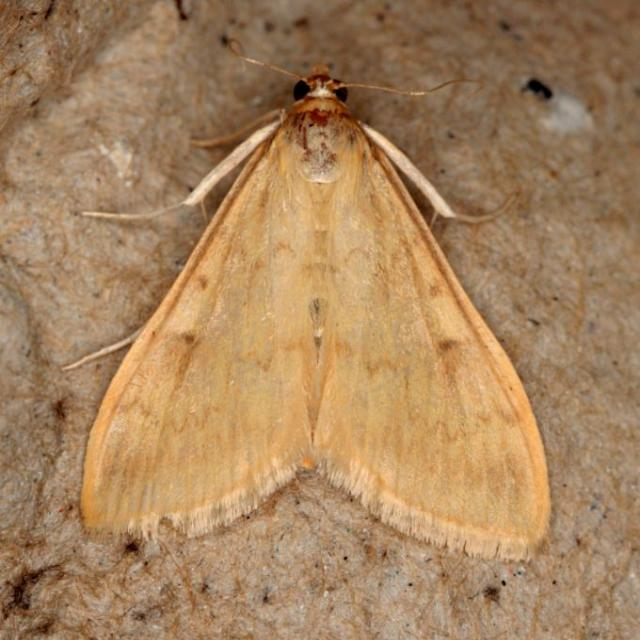cornborer-Adult-: (59, 49, 575, 567)
